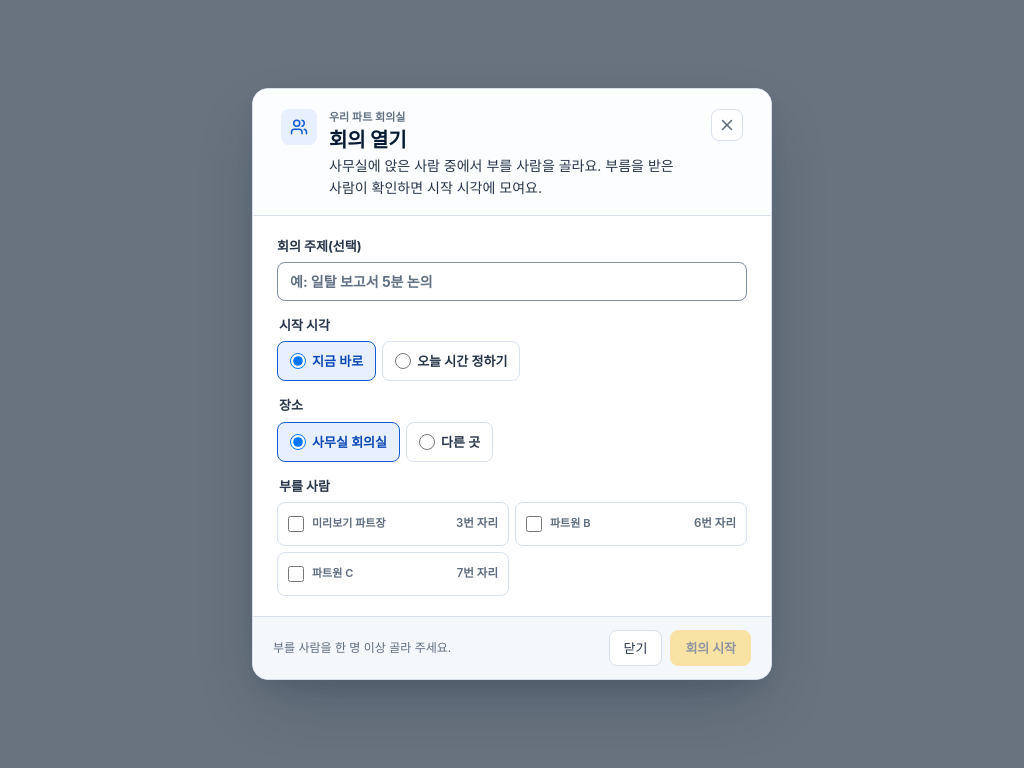
Test: keeps a PM vacation selectable for an AM meeting and blocks it for a scheduled PM meeting
The width and height of the screenshot is (1024, 768).
Click the checkbox labelled "파트원 C 7번 자리" at (296, 574), box x1=288 y1=566 x2=304 y2=582
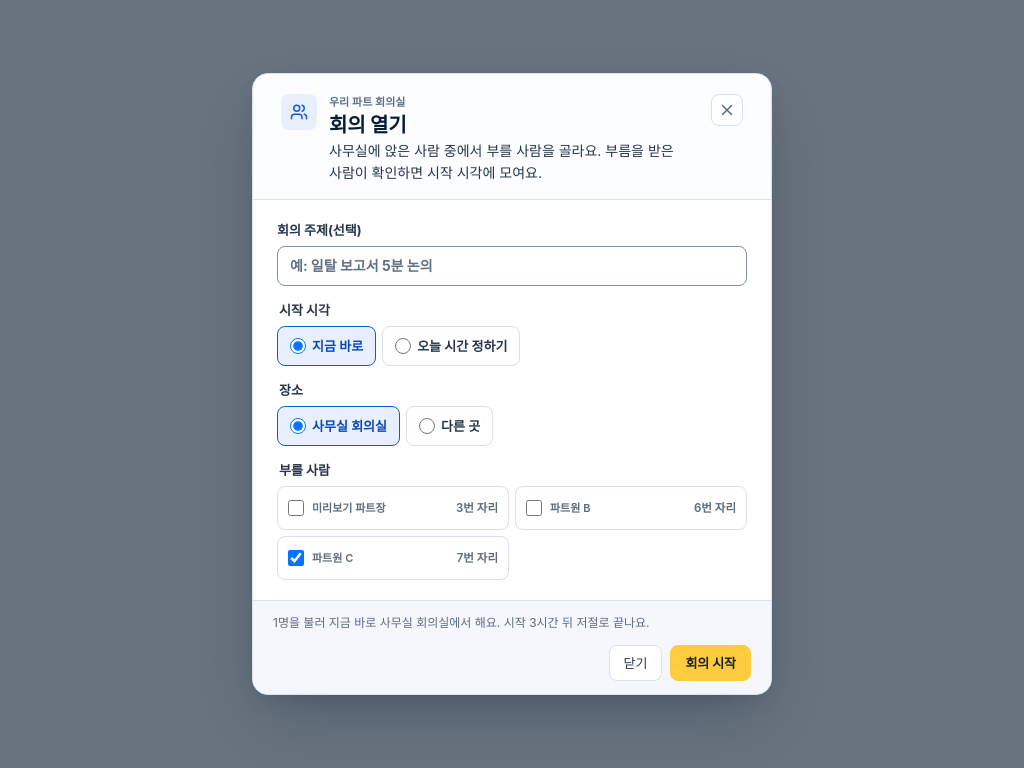
Click the radio button labelled "오늘 시간 정하기" at (403, 346), box x1=395 y1=338 x2=411 y2=354
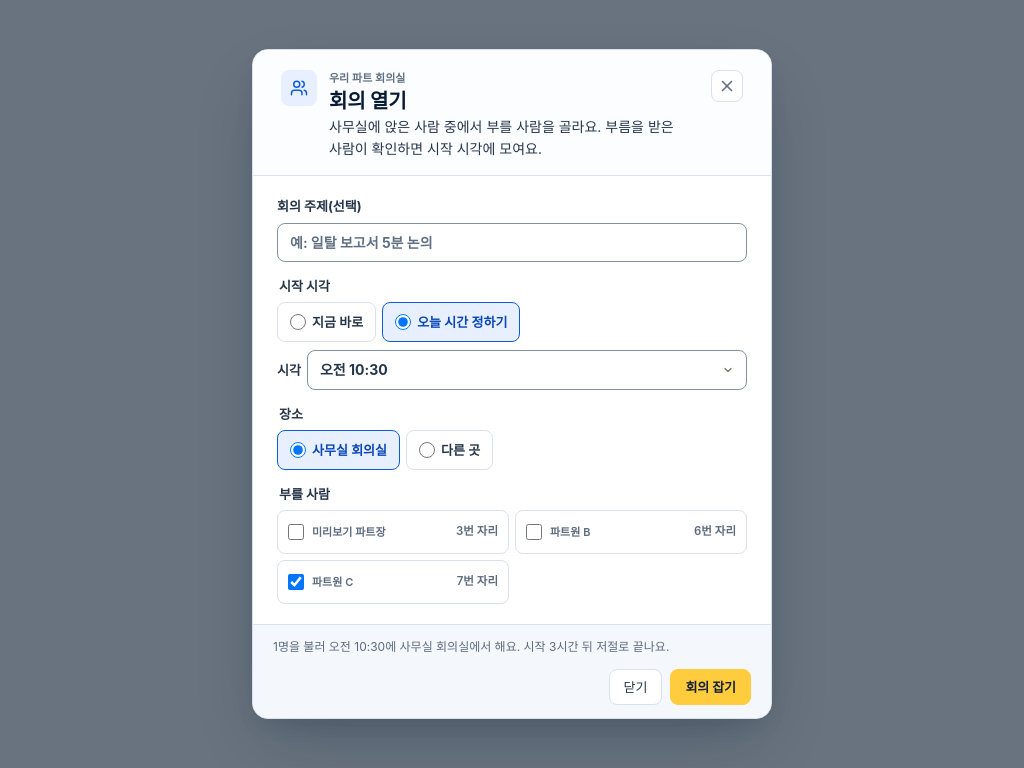
Select "오후 2:00" in the dropdown labelled "시각" at (527, 370), box x1=307 y1=350 x2=747 y2=390
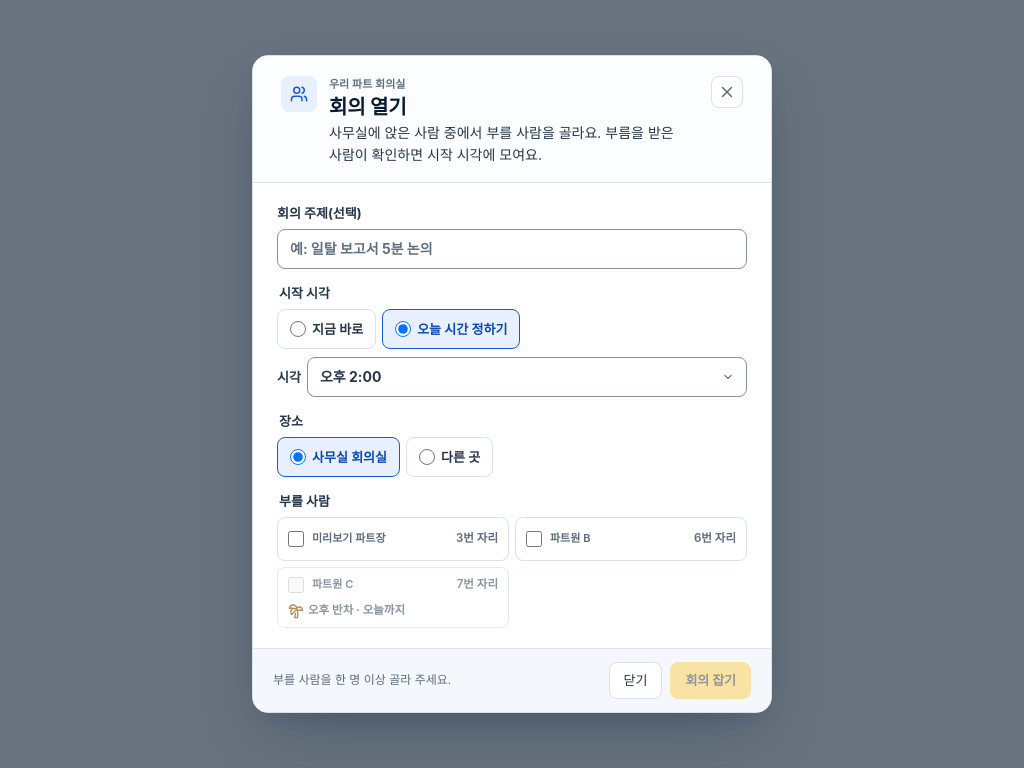
Expected: the checkbox labelled "파트원 C 7번 자리 오후 반차 · 오늘까지" is disabled, x1=288 y1=577 x2=304 y2=593
Expected: the label "파트원 C 7번 자리 오후 반차 · 오늘까지" is shown, x1=277 y1=567 x2=509 y2=628
Expected: the button "회의 잡기" is disabled, x1=670 y1=662 x2=751 y2=698
